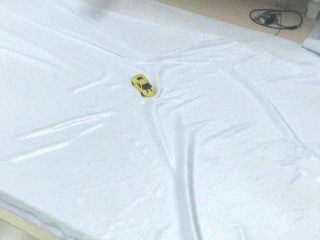toy_car: (130, 73, 157, 98)
